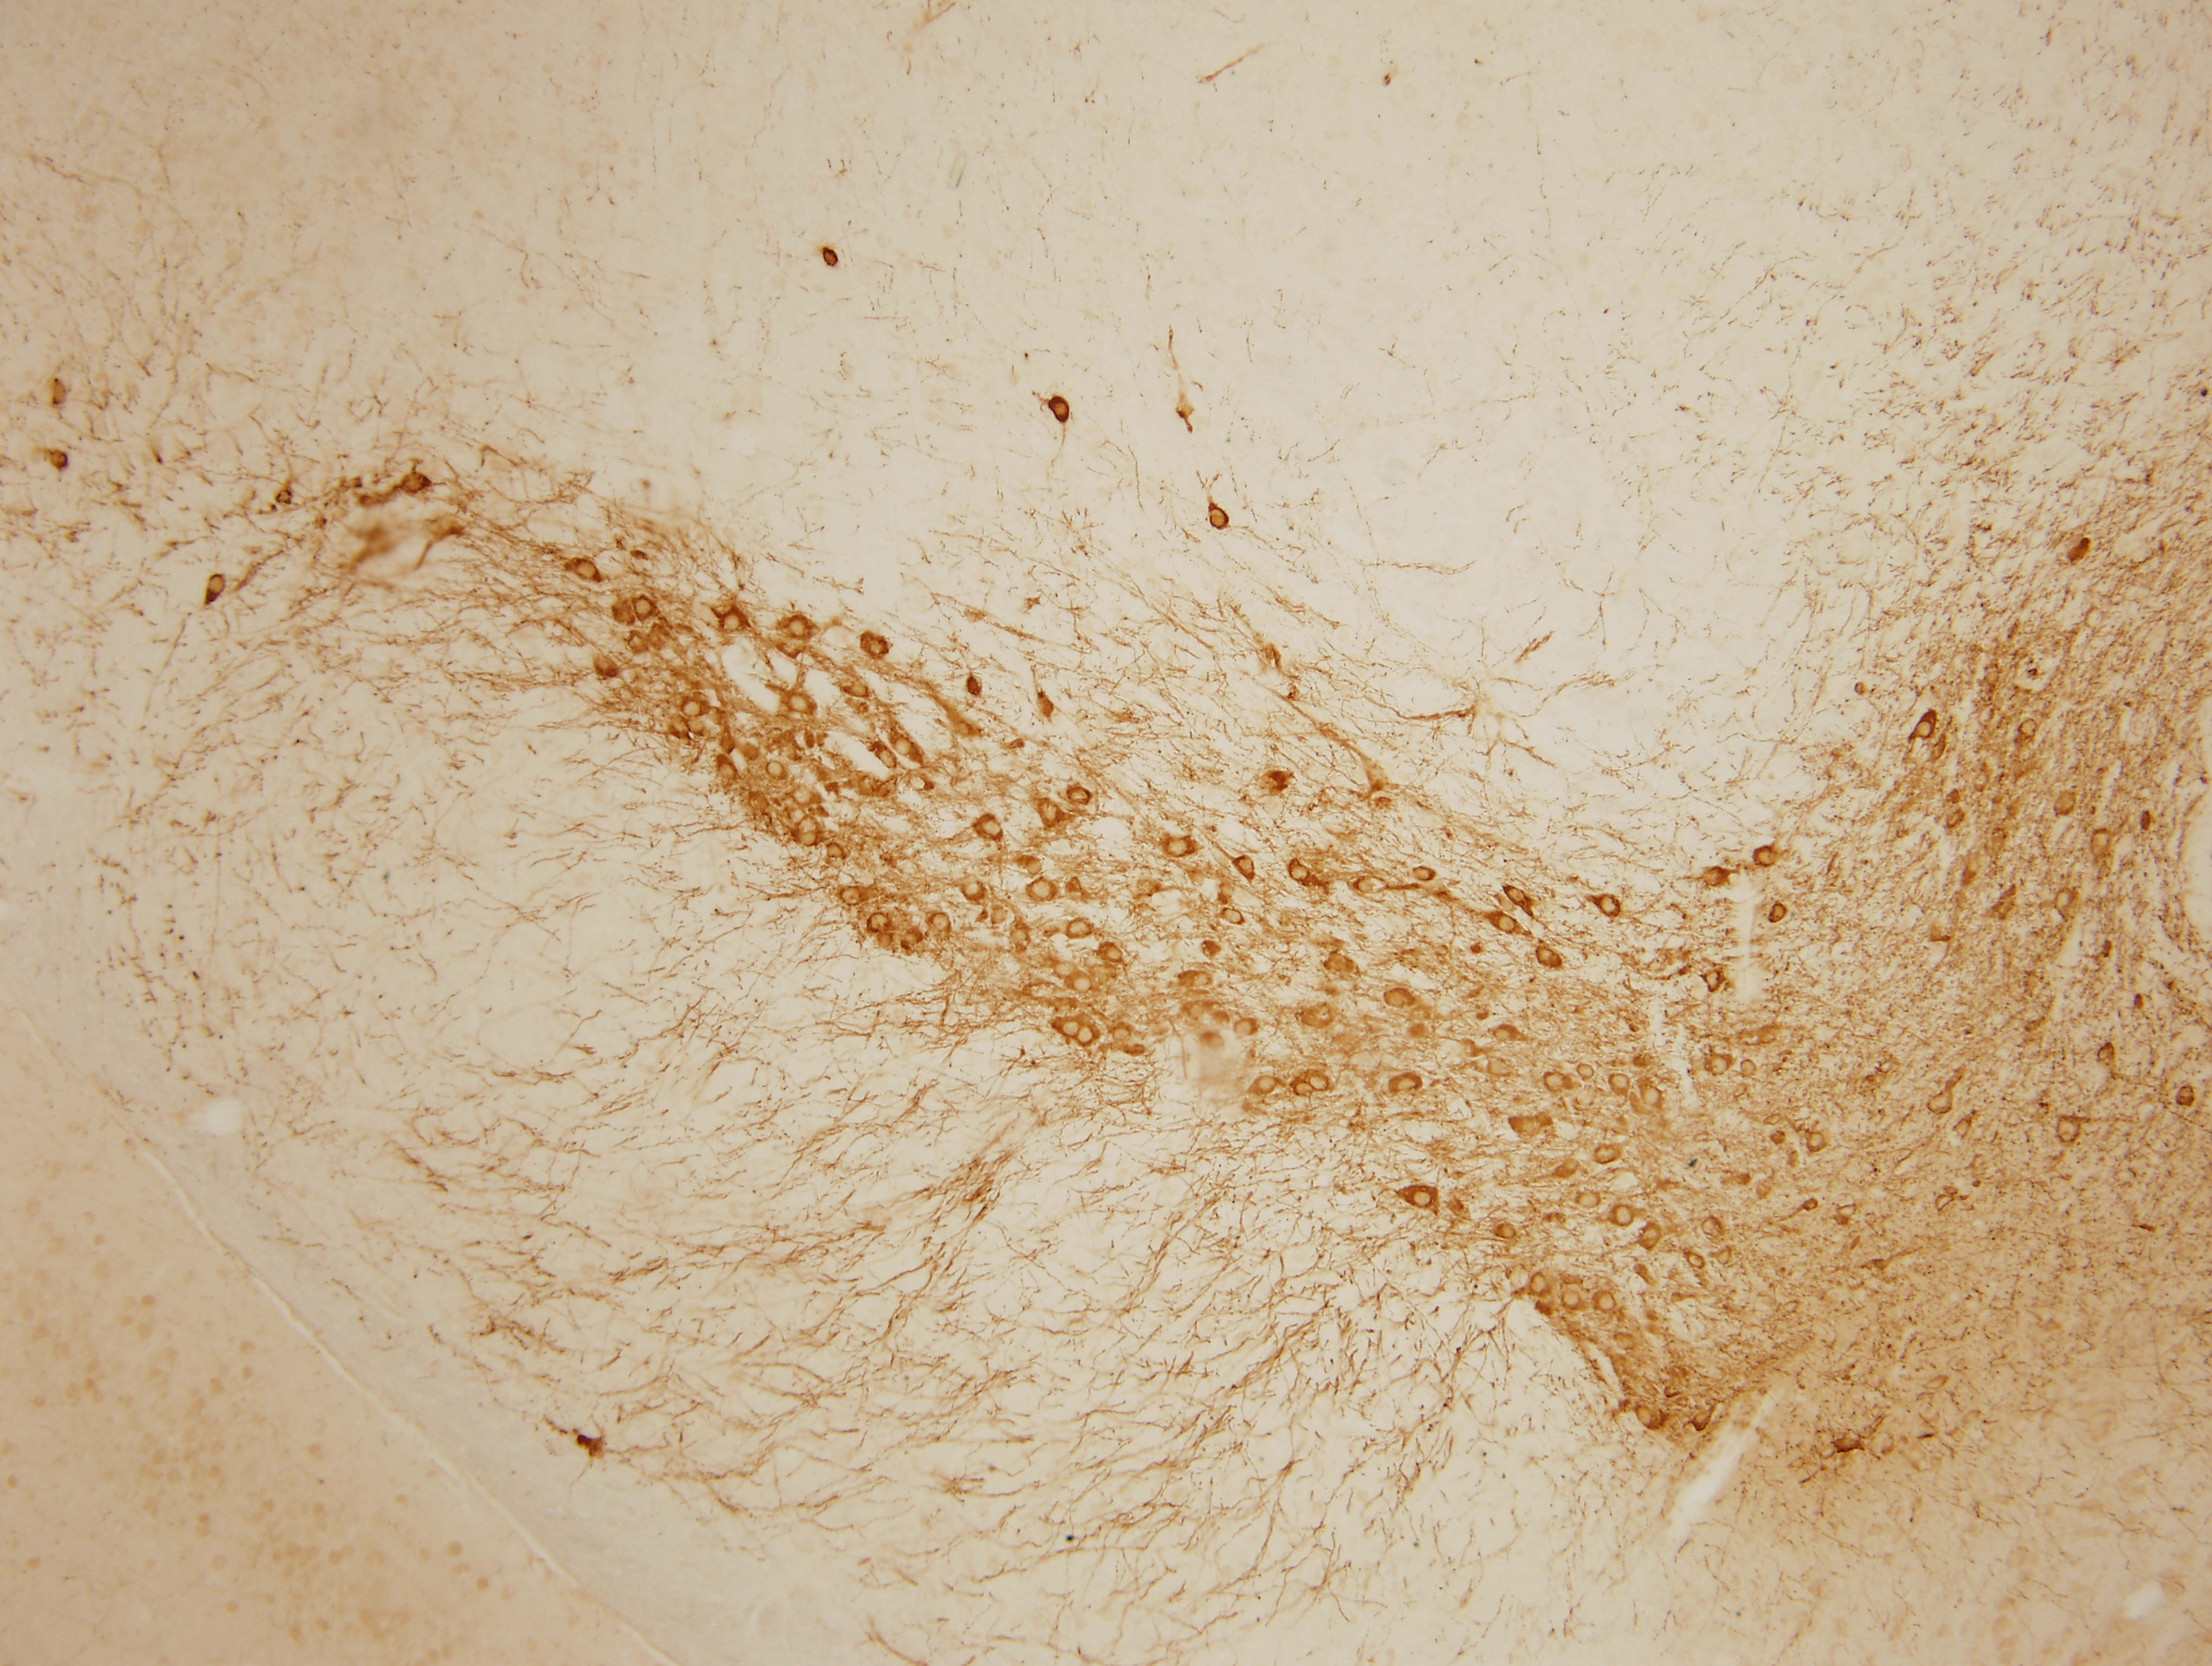neuron: (400, 471, 434, 504), (1044, 394, 1075, 427), (2053, 1115, 2084, 1146), (631, 595, 657, 621), (678, 696, 705, 723), (720, 609, 747, 635), (785, 614, 811, 641), (785, 690, 811, 716), (820, 245, 846, 271), (864, 910, 890, 936), (874, 747, 901, 773), (890, 735, 916, 761), (929, 910, 955, 936), (958, 878, 984, 905), (979, 816, 1005, 842), (1030, 877, 1056, 903), (1037, 801, 1063, 828), (1070, 971, 1096, 998), (1103, 940, 1130, 966), (1221, 903, 1247, 929), (1233, 854, 1259, 880), (1254, 1073, 1280, 1099), (1285, 859, 1311, 886), (1308, 1069, 1334, 1096), (1392, 1071, 1418, 1097), (1409, 859, 1436, 886), (1492, 1022, 1518, 1048), (1493, 912, 1520, 938), (1525, 1272, 1551, 1299), (1534, 945, 1560, 971), (1542, 1069, 1569, 1096), (1562, 1286, 1588, 1312), (1576, 1188, 1602, 1215), (1593, 1143, 1619, 1169), (1595, 1288, 1621, 1314), (1595, 893, 1621, 919), (1607, 1069, 1633, 1096), (1612, 1204, 1638, 1230), (1635, 1405, 1661, 1432), (1638, 1081, 1665, 1108), (1638, 1223, 1665, 1249), (1684, 1248, 1710, 1274), (1701, 970, 1728, 996), (1705, 1054, 1731, 1080), (1766, 900, 1792, 926), (1798, 1193, 1824, 1220), (1805, 1129, 1831, 1155), (2018, 716, 2044, 742), (2095, 1039, 2121, 1066), (574, 558, 600, 583), (713, 760, 740, 784), (796, 814, 820, 840), (839, 884, 866, 908), (1058, 1015, 1082, 1041), (1067, 782, 1091, 808), (1067, 917, 1091, 943), (1074, 1024, 1098, 1050), (1166, 835, 1191, 861), (1207, 506, 1231, 532), (1504, 882, 1530, 906), (1913, 718, 1937, 744), (1934, 1190, 1960, 1215), (205, 572, 229, 598), (764, 758, 789, 782), (1927, 1092, 1951, 1116), (1497, 1223, 1518, 1242), (1717, 1246, 1736, 1267), (789, 807, 808, 826), (1413, 1190, 1432, 1209), (1577, 1062, 1596, 1081), (1701, 1216, 1721, 1236), (2053, 891, 2072, 910)
